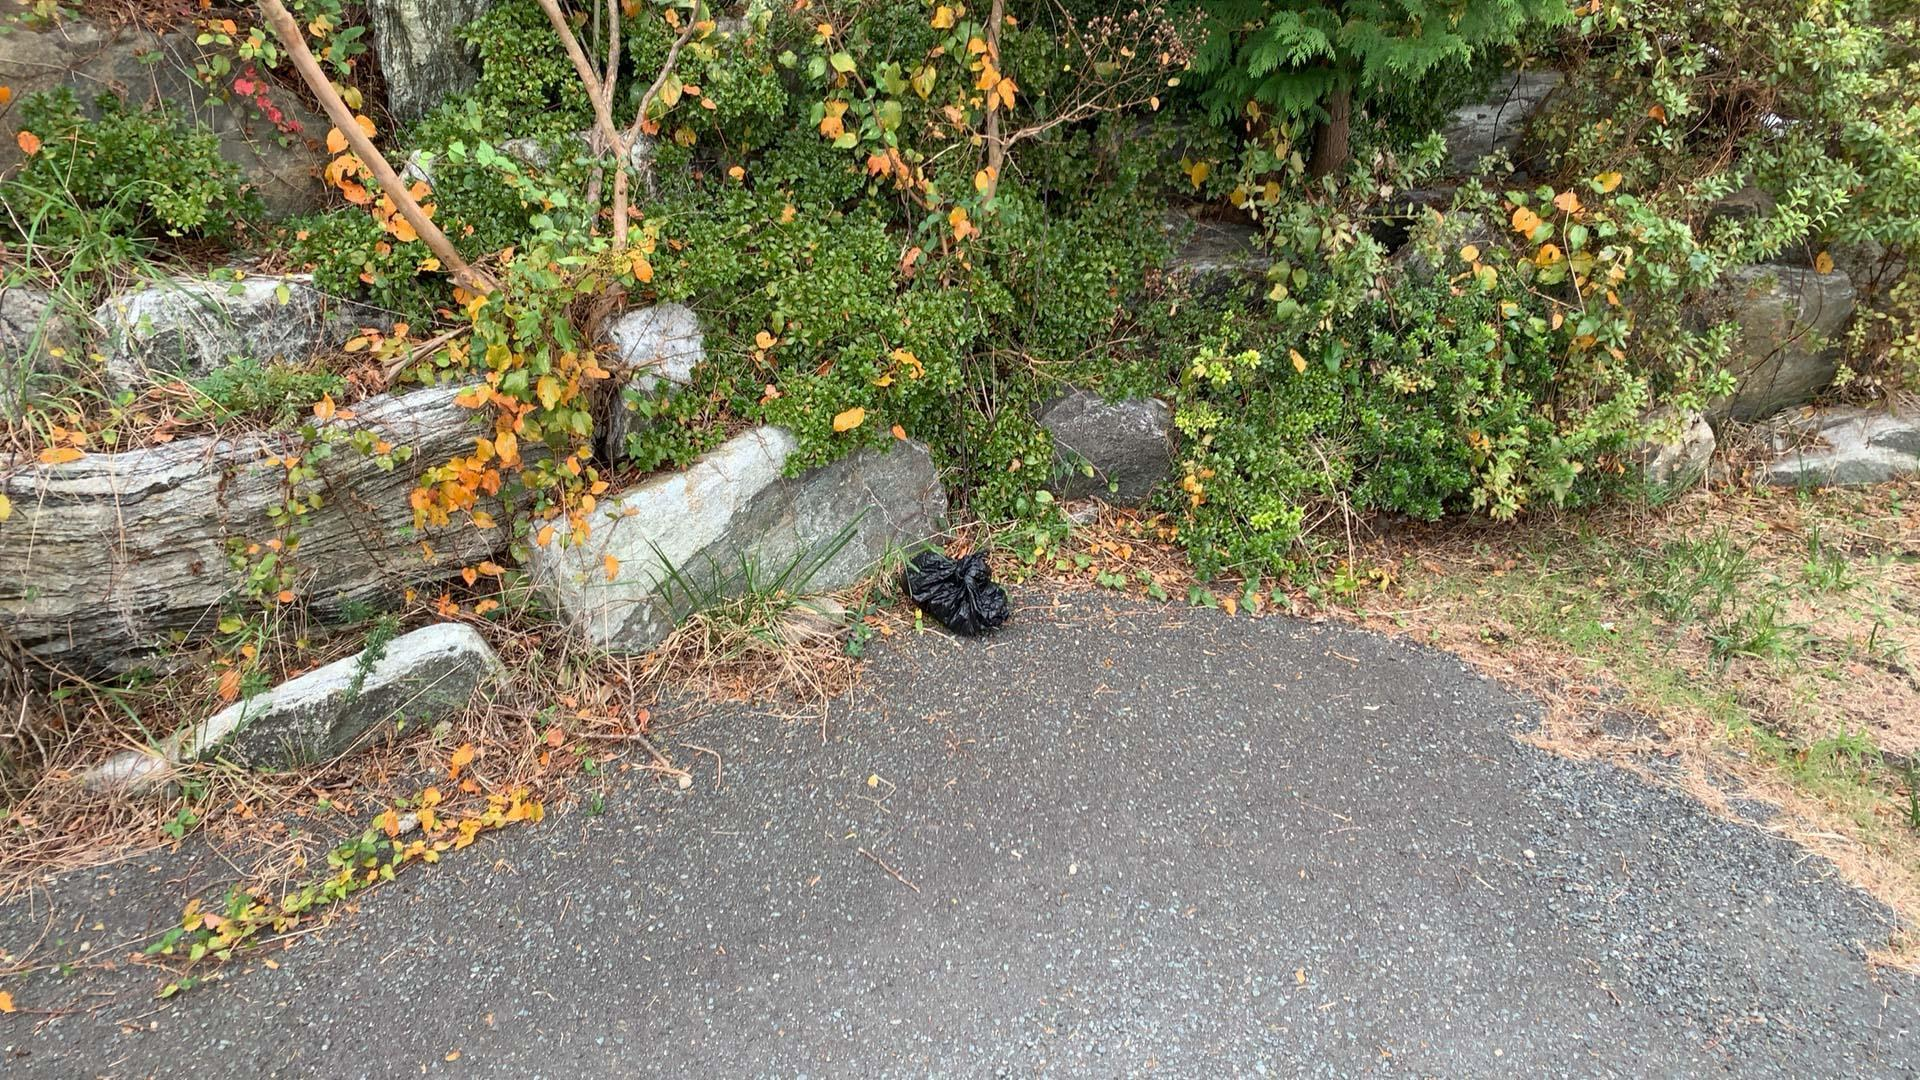black_bag: (895, 549, 1014, 638)
